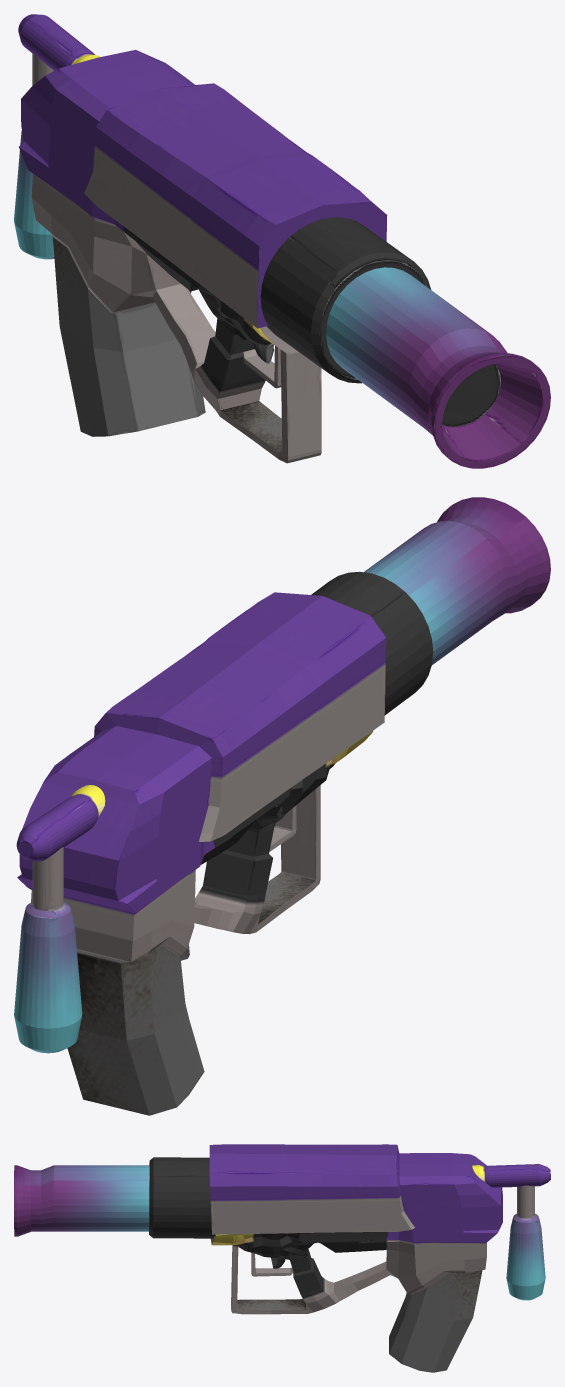
The model's file is erin_gl.fbx.
3 renders of one model, top to bottom at view 1: azimuth 30°, elevation 25°; view 2: azimuth 150°, elevation 25°; view 3: azimuth 270°, elevation 25°, orthographic. The views are drawn at different scales.
Parts seen in each view (by area): view 1: erin_gl; view 2: erin_gl; view 3: erin_gl.
Part boxes in pixels (box(x1,y1,x2,y2)): erin_gl: box(14, 14, 550, 468); erin_gl: box(14, 497, 550, 1115); erin_gl: box(14, 1144, 550, 1372).
Bounding box in the file's own units: 54.93 × 148 × 347.
